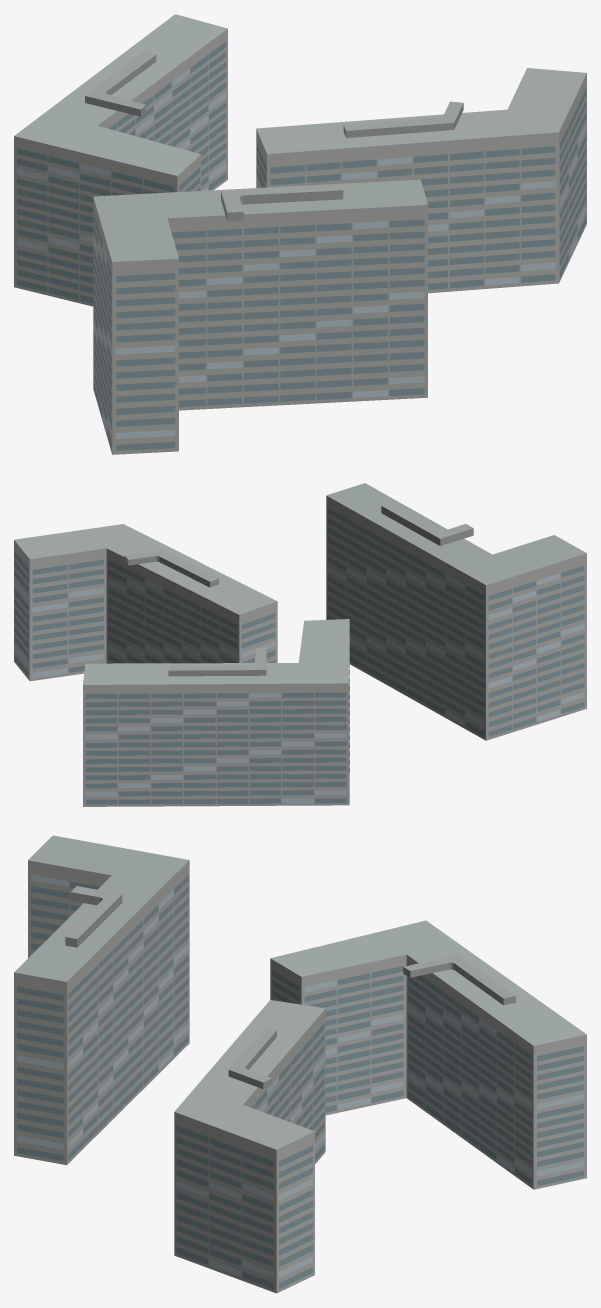
Rendered from apt-a15286801.glb.
3 views of the same model, one above another, from view 1: azimuth 30°, elevation 25°; view 2: azimuth 150°, elevation 25°; view 3: azimuth 270°, elevation 25° (orthographic). The views are drawn at different scales.
Visible parts, largest first — view 1: apt-a15286801; view 2: apt-a15286801; view 3: apt-a15286801.
Boxes of the visible parts, x1,y1,x2,y2 form: apt-a15286801: [14, 14, 586, 454]; apt-a15286801: [14, 483, 586, 806]; apt-a15286801: [14, 835, 586, 1293].
Bounding box in the file's own units: 157 × 51 × 138.
